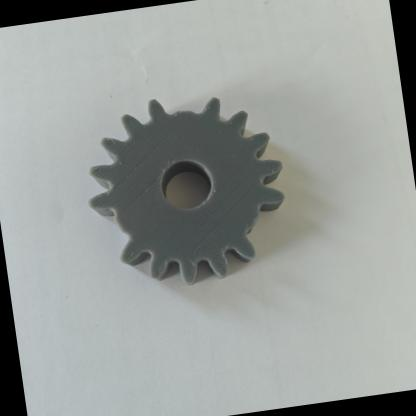defect: (139, 76, 240, 160), (229, 176, 302, 277), (72, 194, 157, 278)
gear: (51, 60, 324, 334)
